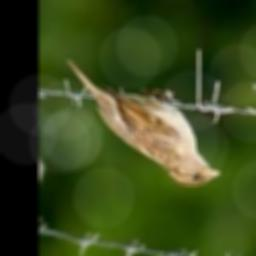Sparrow: (64, 59, 221, 187)
